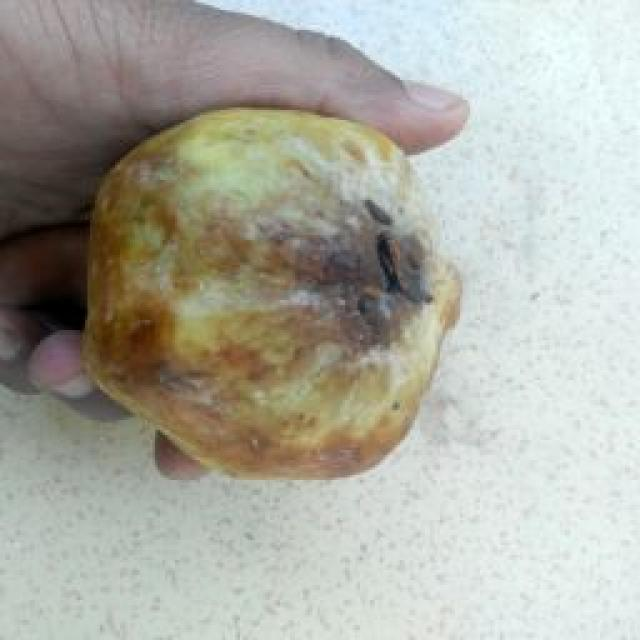Bad_Guava: (86, 111, 459, 478)
